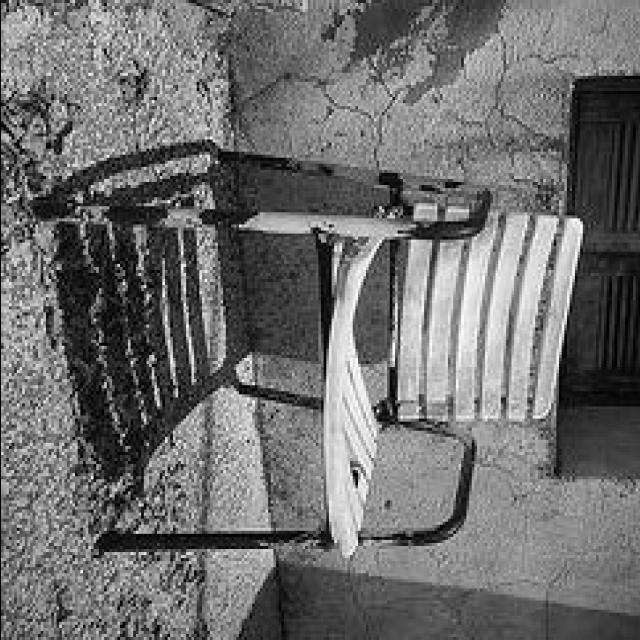chair: (42, 144, 586, 562)
